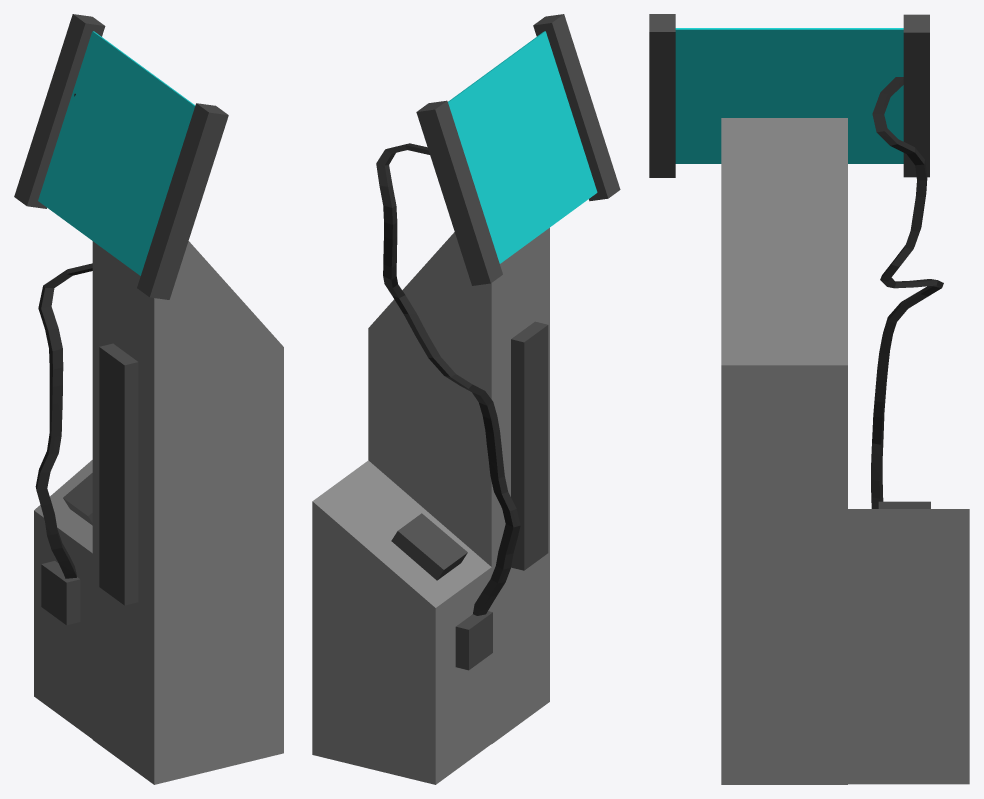
The model's file is Terminal.fbx.
3 renders of one model, left to right at view 1: azimuth 30°, elevation 25°; view 2: azimuth 150°, elevation 25°; view 3: azimuth 270°, elevation 25°, orthographic. The views are drawn at different scales.
Visible parts, largest first — view 1: PM3D_Plane3D193_022; view 2: PM3D_Plane3D193_022; view 3: PM3D_Plane3D193_022.
Part boxes in pixels (x1=…): PM3D_Plane3D193_022: x1=14, y1=14, x2=283, y2=784; PM3D_Plane3D193_022: x1=312, y1=14, x2=620, y2=784; PM3D_Plane3D193_022: x1=649, y1=14, x2=969, y2=784.
Size of the model in its own units: 33.57 by 128 by 52.12.
